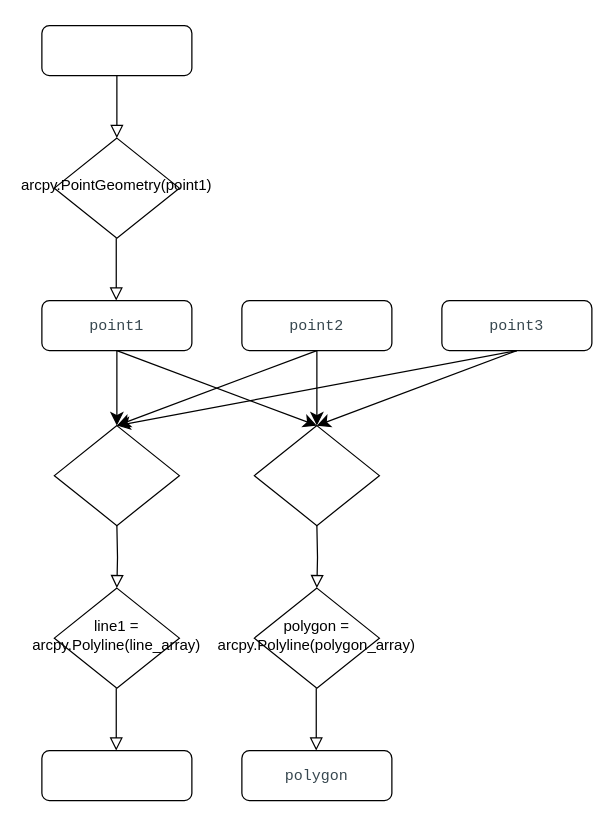
The diagram is 614 pixels wide and 823 high, and some of its shapes have lost their labels. Here are the shapes that lost their labels. From the top down, the box of each, then its label:
(41, 24, 192, 76): point1 = arcpy.Point( 1 , 2 )
(53, 424, 179, 526): line_array = arcpy.Array(point1, point2, point3)
(253, 424, 379, 526): polygon_array = arcpy.Array(point1, point2, point3)
(41, 749, 192, 801): line1
